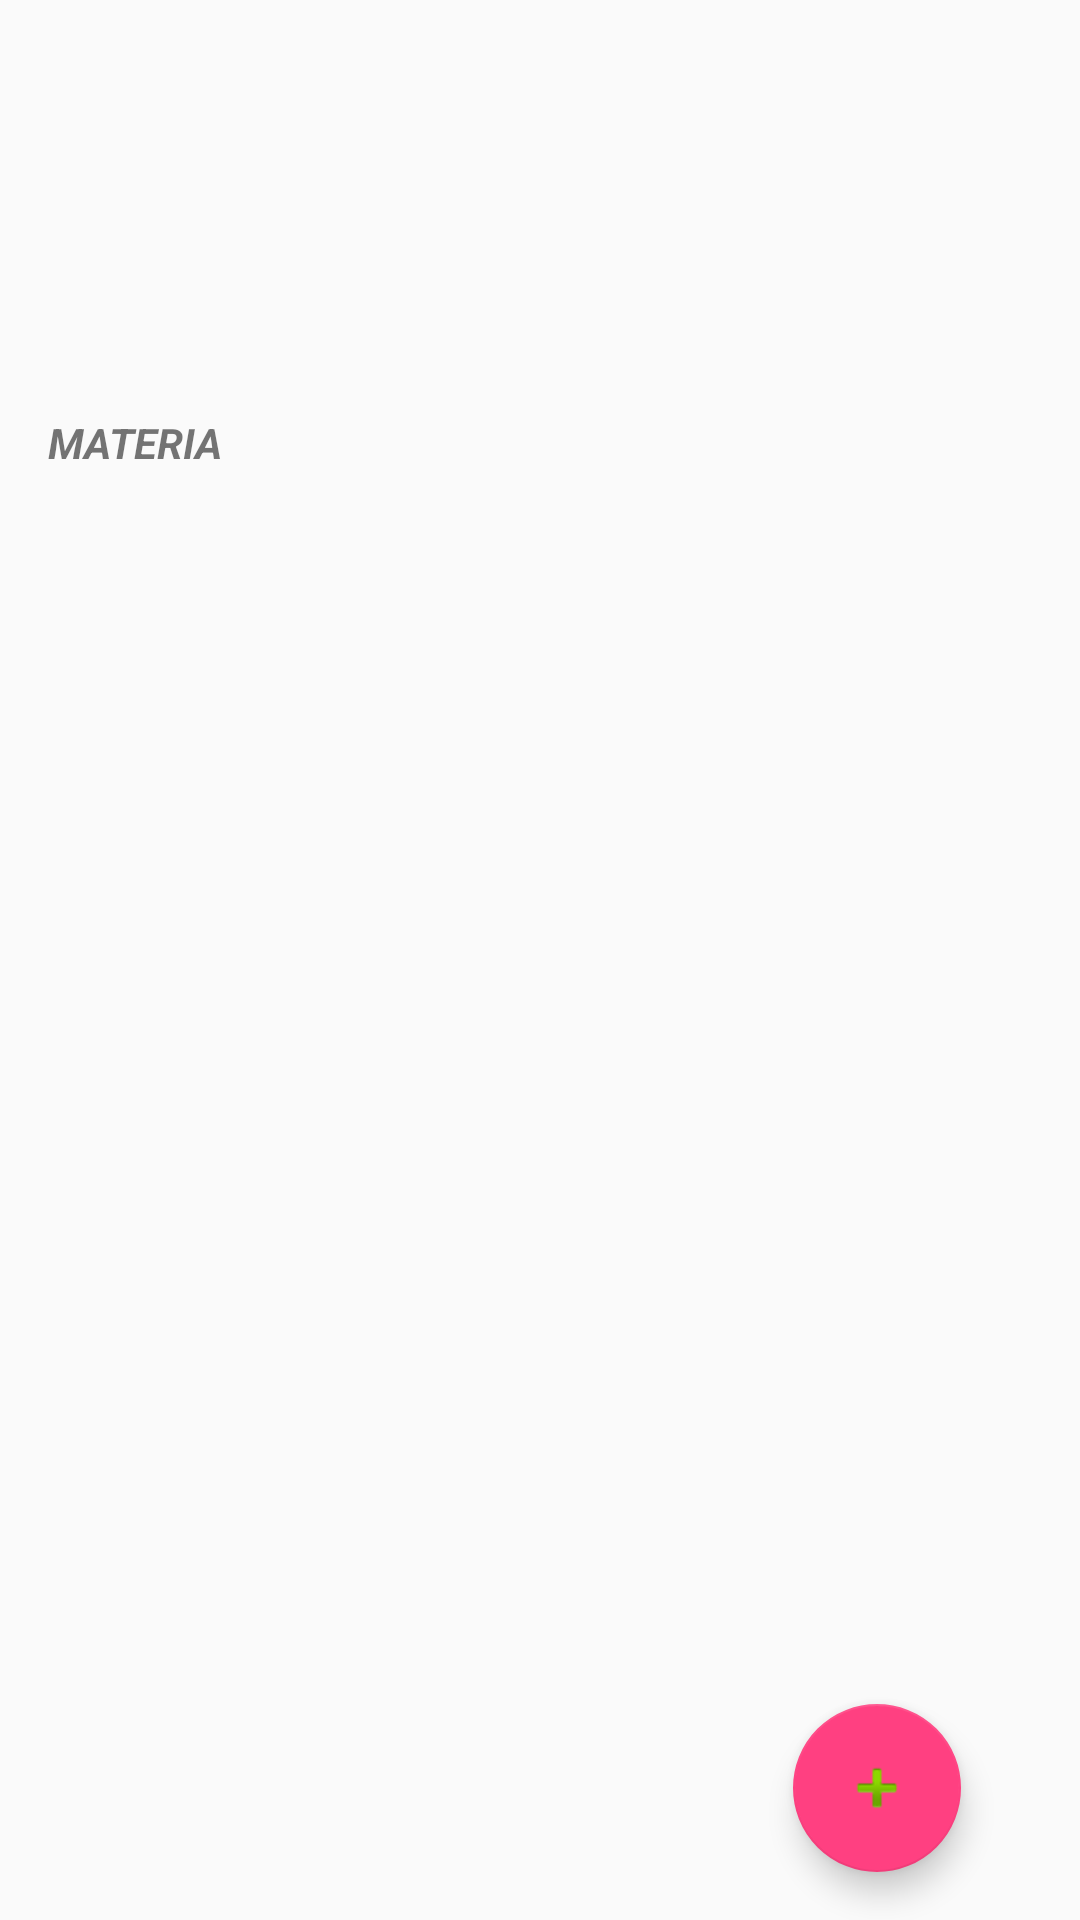

Screen size 1080x1920. Icon name, then its box in pixels as (x1, y1, x2, y2):
add: (793, 1704, 961, 1872)
